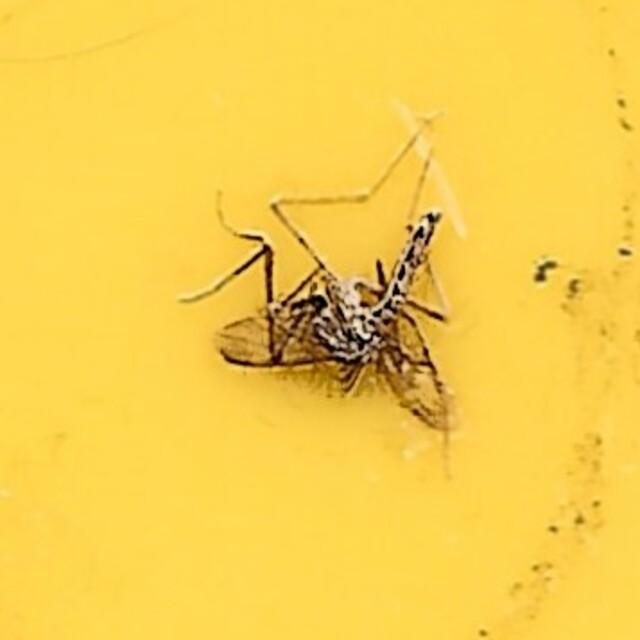Nematocera: (179, 202, 461, 438)
